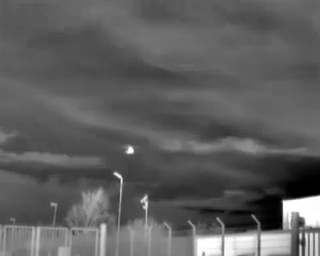HELICOPTER: (121, 141, 141, 159)
